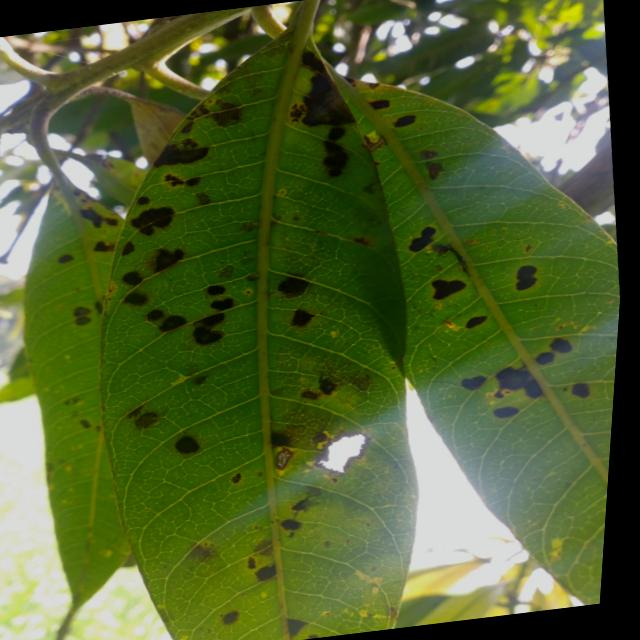Anthracnose: (302, 51, 354, 126), (131, 204, 188, 242), (129, 198, 179, 241), (492, 360, 547, 399), (430, 236, 476, 274), (321, 125, 352, 178), (151, 140, 209, 168), (189, 310, 231, 347), (77, 203, 119, 235), (428, 270, 467, 302), (290, 484, 324, 519), (208, 98, 244, 131), (406, 223, 440, 257), (276, 272, 310, 302), (186, 539, 216, 567), (299, 49, 329, 77), (157, 310, 188, 335), (173, 432, 201, 458), (154, 248, 184, 272), (350, 368, 376, 394), (252, 536, 277, 562), (282, 613, 307, 639), (271, 446, 295, 472), (315, 373, 340, 397), (290, 307, 315, 331), (120, 267, 145, 291), (549, 334, 575, 357), (290, 495, 315, 517), (517, 264, 536, 292), (133, 410, 159, 430), (254, 563, 279, 583), (459, 375, 487, 392), (210, 296, 236, 314), (288, 102, 308, 125), (72, 305, 93, 326), (163, 171, 185, 191), (425, 159, 445, 181), (392, 113, 417, 129), (145, 305, 165, 325), (492, 405, 520, 419), (269, 431, 292, 448), (279, 517, 303, 533), (535, 349, 555, 367), (221, 609, 242, 626), (239, 218, 261, 234), (464, 315, 489, 329), (119, 240, 137, 259), (300, 387, 320, 404), (124, 291, 148, 305), (571, 383, 590, 399), (353, 233, 373, 248), (93, 239, 115, 252), (195, 191, 212, 207), (190, 374, 210, 387), (178, 120, 194, 135), (207, 284, 227, 296), (369, 98, 389, 110), (328, 127, 345, 141), (135, 193, 151, 207), (57, 252, 74, 264), (421, 149, 437, 159), (186, 177, 201, 187), (247, 556, 257, 570), (523, 243, 534, 254), (230, 473, 242, 483), (94, 301, 103, 314), (323, 539, 333, 549), (80, 420, 91, 429), (308, 633, 319, 639)
